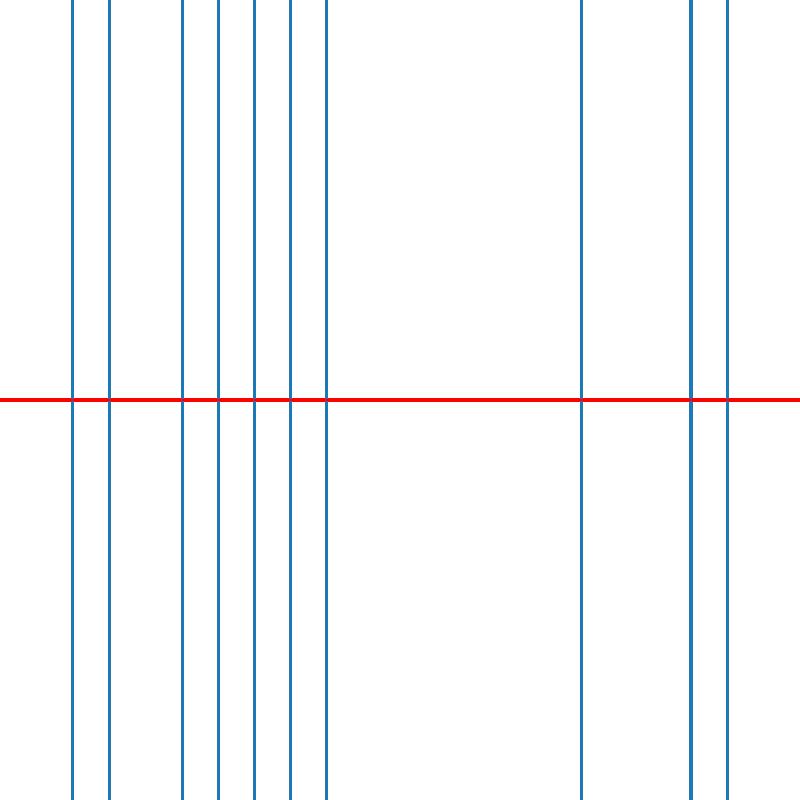root: (250, 396, 258, 404), (178, 396, 185, 404), (214, 396, 221, 404), (69, 396, 76, 404), (323, 396, 330, 404), (287, 396, 294, 404), (105, 396, 112, 404), (578, 396, 585, 404), (687, 396, 694, 404), (723, 396, 730, 404)
